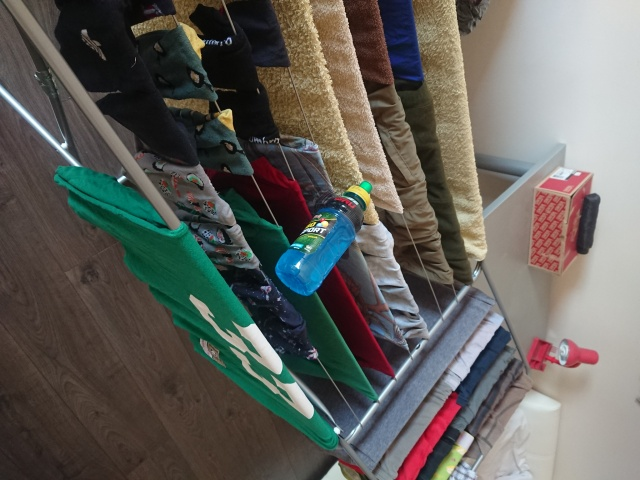Vindi Iso Sport Forest Strawberries 500mL: (273, 179, 372, 297)
